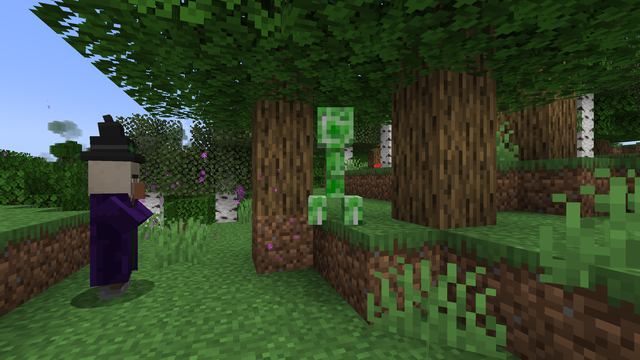creepers: (308, 98, 361, 225)
sorcieres: (78, 154, 145, 304)
